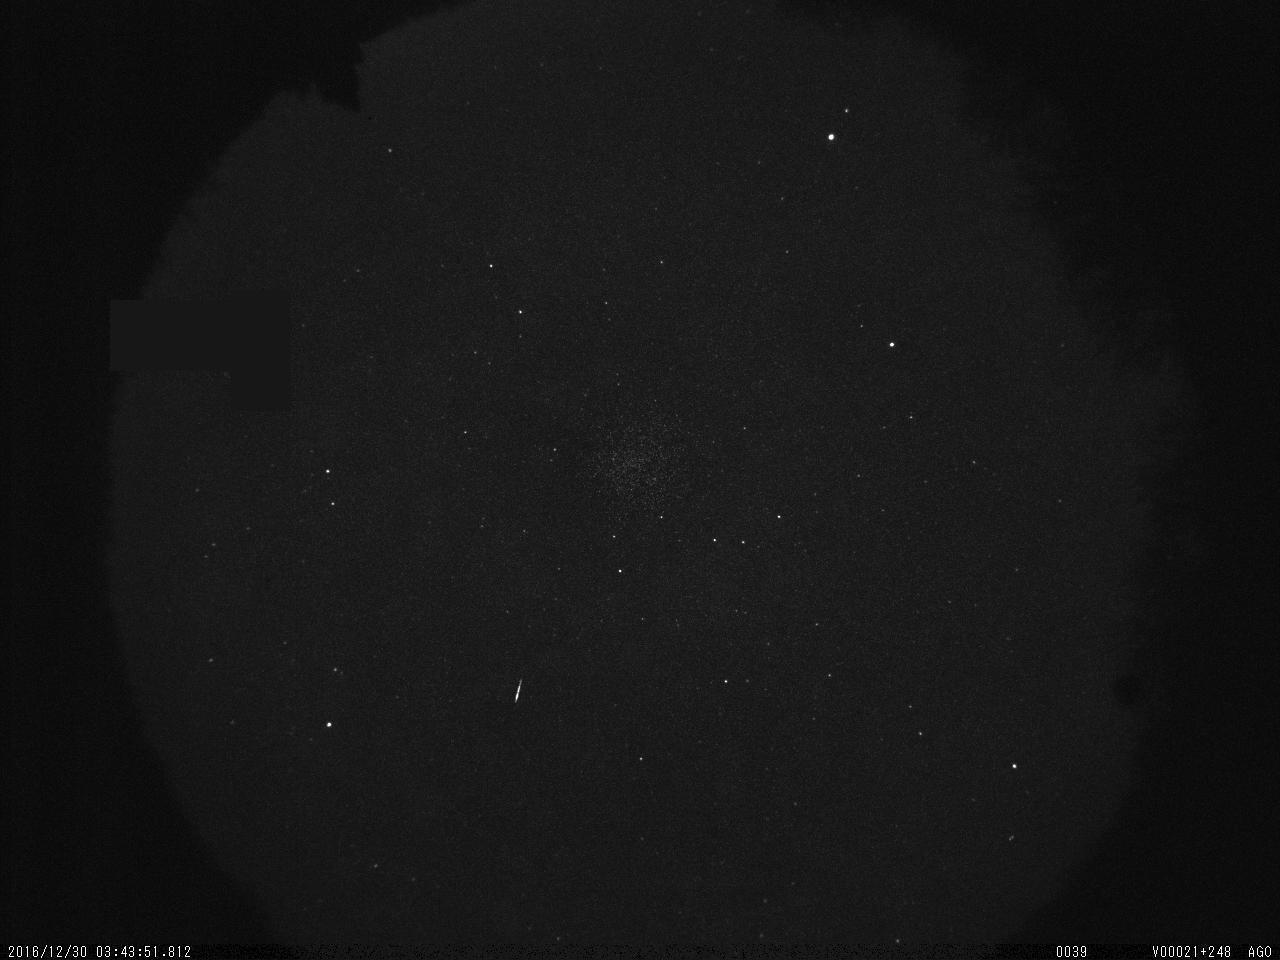Meteor: (512, 664, 530, 712)
